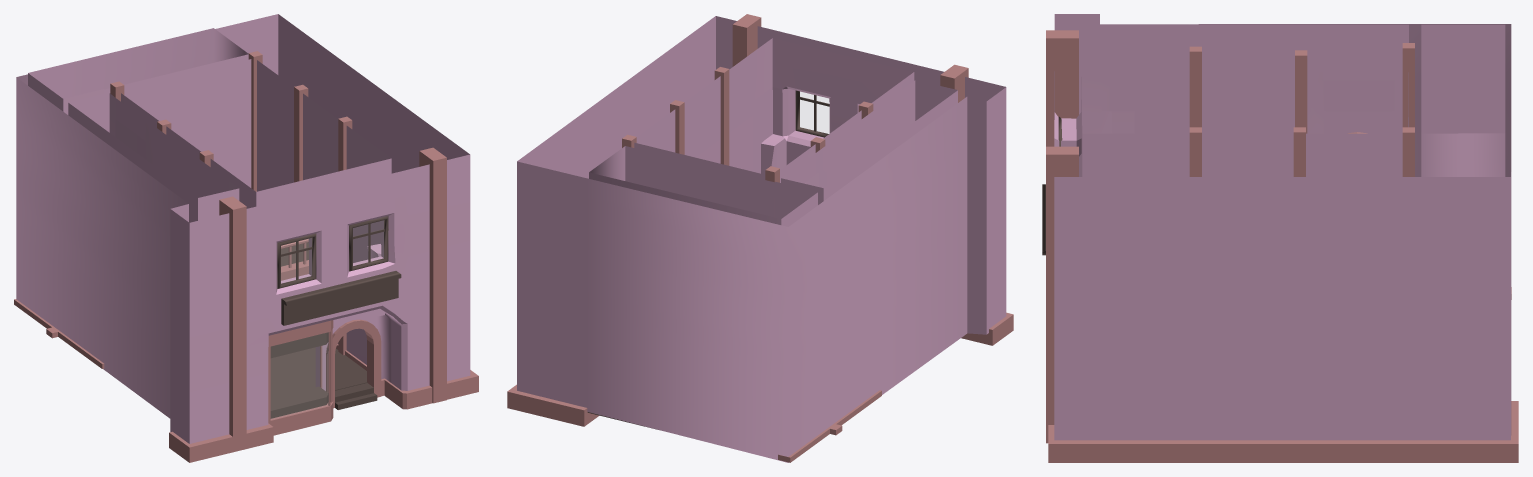
File: scene_rebuild.fbx
The picture shows the model from 3 angles, left to right: view 1: azimuth 30°, elevation 25°; view 2: azimuth 150°, elevation 25°; view 3: azimuth 270°, elevation 25°; orthographic projection. The views are drawn at different scales.
Visible parts, largest first — view 1: polySurface65, polySurface23, polySurface14, polySurface34, polySurface36, polySurface6, polySurface55, polySurface38, polySurface5, polySurface25, polySurface61, polySurface68 (+10 smaller); view 2: polySurface65, polySurface38, polySurface23, polySurface59, polySurface72, polySurface32, polySurface55, polySurface14, polySurface44; view 3: polySurface65, polySurface38, polySurface23, polySurface14, polySurface19, polySurface24, polySurface33, polySurface10, polySurface44, polySurface59.
Part boxes in pixels (bbox=[...]): polySurface65: bbox=[16, 14, 470, 443]; polySurface23: bbox=[419, 147, 446, 403]; polySurface14: bbox=[219, 196, 246, 452]; polySurface34: bbox=[271, 333, 327, 418]; polySurface36: bbox=[281, 271, 401, 325]; polySurface6: bbox=[270, 347, 367, 397]; polySurface55: bbox=[169, 423, 273, 462]; polySurface38: bbox=[336, 344, 478, 409]; polySurface5: bbox=[326, 319, 381, 408]; polySurface25: bbox=[270, 386, 328, 418]; polySurface61: bbox=[270, 401, 333, 435]; polySurface68: bbox=[281, 238, 311, 282]; polySurface65: bbox=[517, 16, 1006, 462]; polySurface38: bbox=[507, 384, 598, 426]; polySurface23: bbox=[732, 14, 761, 66]; polySurface59: bbox=[714, 67, 729, 165]; polySurface72: bbox=[800, 92, 828, 133]; polySurface32: bbox=[778, 390, 881, 462]; polySurface55: bbox=[961, 312, 1013, 345]; polySurface14: bbox=[940, 64, 968, 102]; polySurface44: bbox=[670, 100, 684, 154]; polySurface65: bbox=[1054, 14, 1511, 440]; polySurface38: bbox=[1048, 401, 1518, 462]; polySurface23: bbox=[1046, 146, 1078, 443]; polySurface14: bbox=[1046, 30, 1078, 146]; polySurface19: bbox=[1402, 43, 1414, 127]; polySurface24: bbox=[1189, 46, 1201, 127]; polySurface33: bbox=[1295, 50, 1307, 133]; polySurface10: bbox=[1402, 127, 1414, 176]; polySurface44: bbox=[1293, 127, 1305, 176]; polySurface59: bbox=[1189, 127, 1201, 176].
Bounding box in the file's own units: 970 × 792 × 1158.
